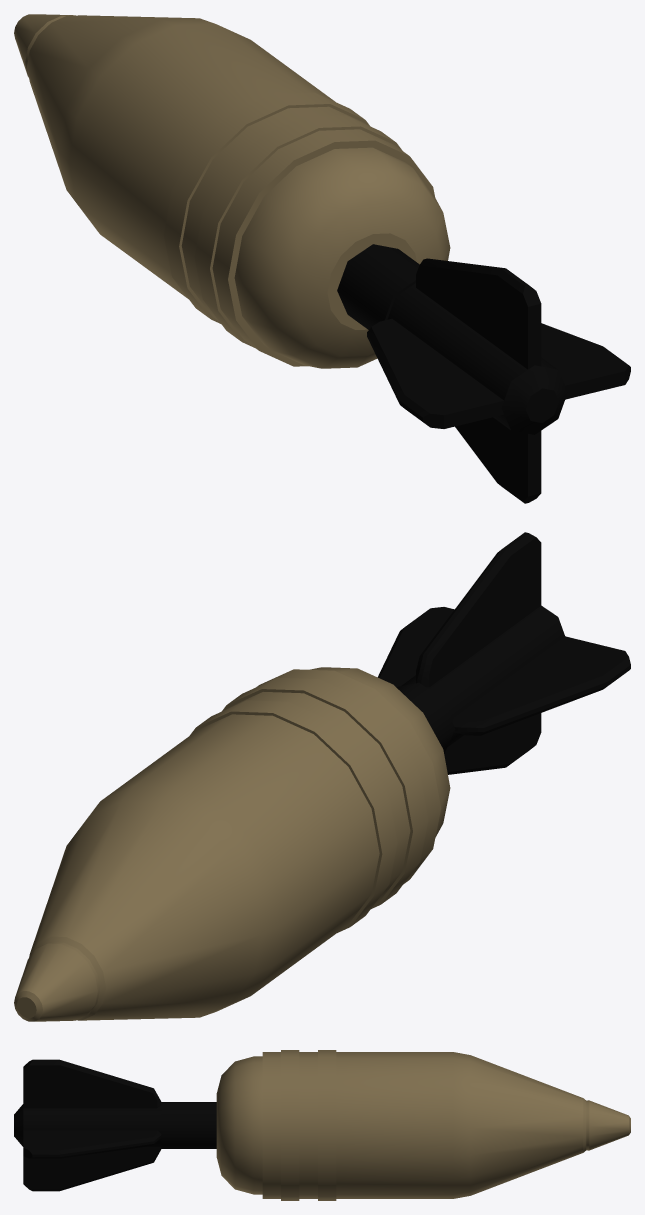
Rendered from heat_bullet_M830.fbx.
3 renders of one model, top to bottom at view 1: azimuth 30°, elevation 25°; view 2: azimuth 150°, elevation 25°; view 3: azimuth 270°, elevation 25°, orthographic. The views are drawn at different scales.
Visible parts, largest first — view 1: Cylinder.004; view 2: Cylinder.004; view 3: Cylinder.004.
Boxes of the visible parts, bbox=[...] form: Cylinder.004: bbox=[14, 14, 630, 503]; Cylinder.004: bbox=[14, 532, 630, 1021]; Cylinder.004: bbox=[14, 1050, 630, 1200].
Size of the model in its own units: 82 by 82 by 335.
